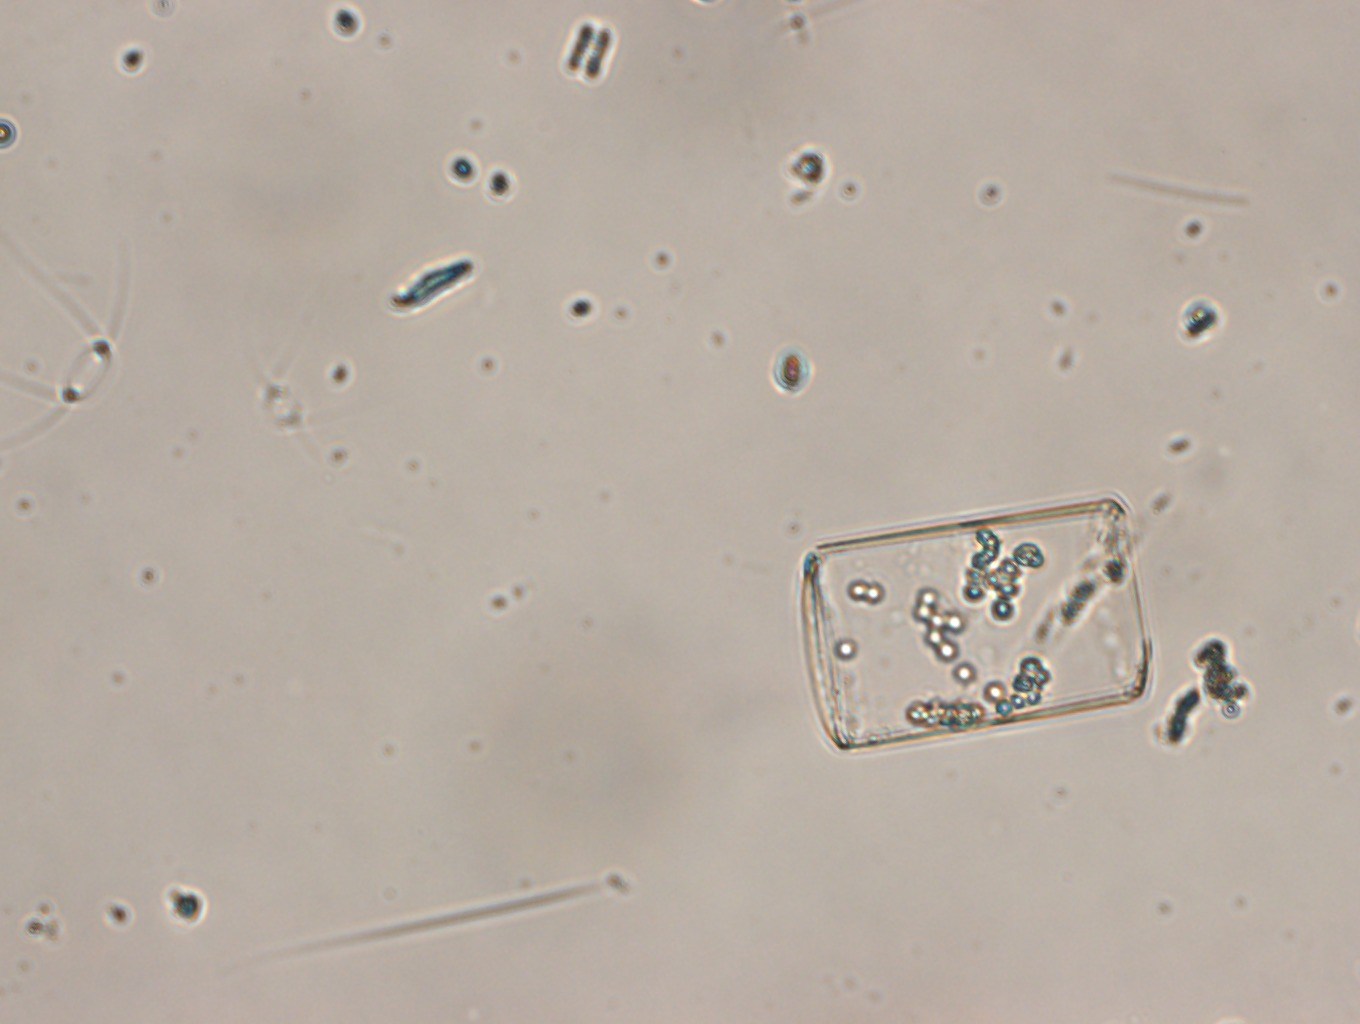guinardia flaccida: (801, 492, 1153, 750)
